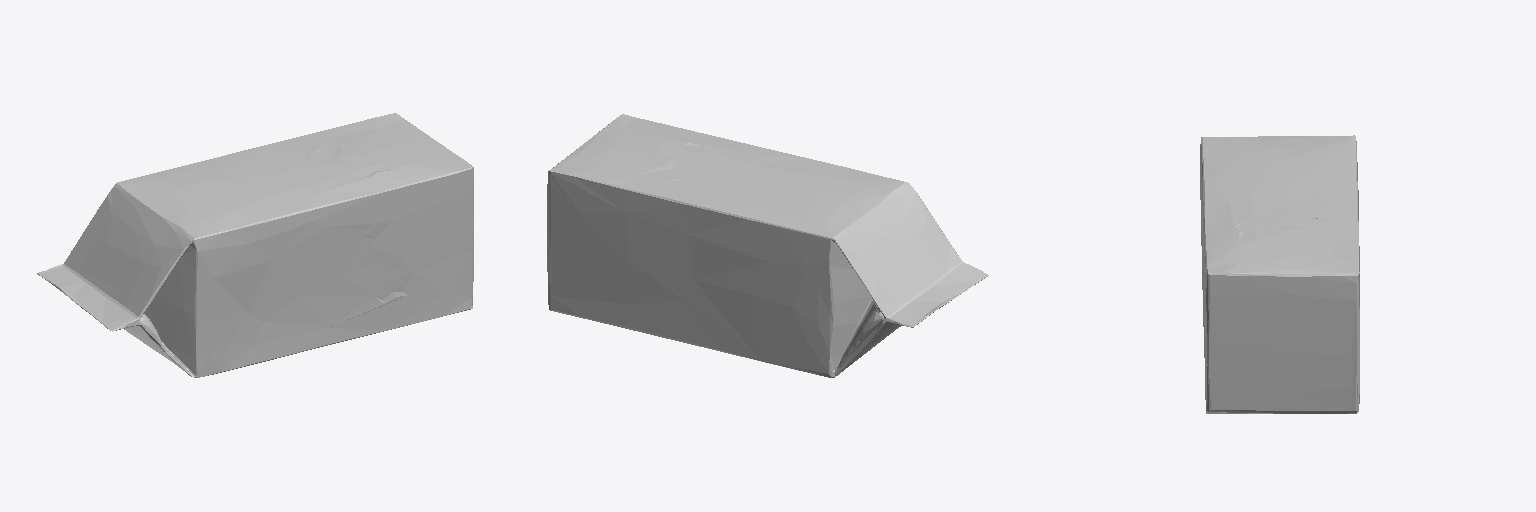
Rendered from Milk.obj.
The picture shows the model from 3 angles: view 1: azimuth 30°, elevation 25°; view 2: azimuth 150°, elevation 25°; view 3: azimuth 270°, elevation 25°; orthographic projection.
Visible parts, largest first — view 1: textured.001; view 2: textured.001; view 3: textured.001.
Boxes of the visible parts, box(x1,y1,x2,y2) form: textured.001: box(37, 113, 473, 377); textured.001: box(547, 114, 988, 377); textured.001: box(1200, 135, 1359, 413).
Size of the model in its own units: 0.1903 by 0.0732 by 0.0722.